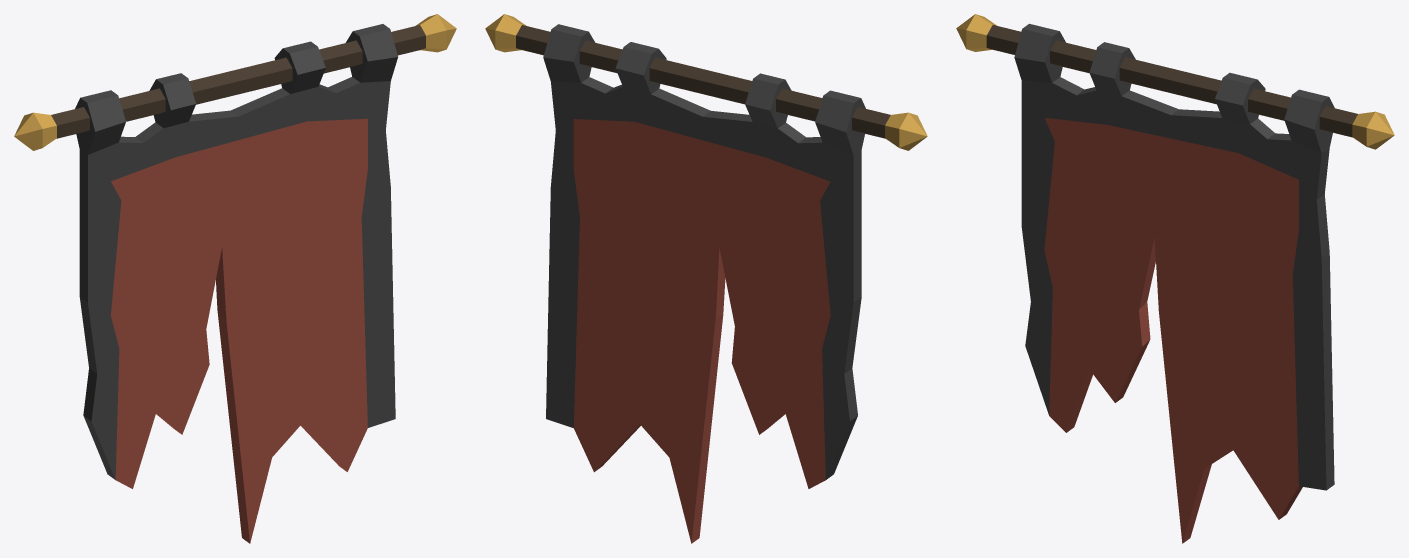
Rendered from SM_Prop_Wall_Banner_03.glb.
3 views of the same model, side by side, from view 1: azimuth 30°, elevation 25°; view 2: azimuth 150°, elevation 25°; view 3: azimuth 330°, elevation 25° (orthographic).
Parts seen in each view (by area): view 1: SM_Prop_Wall_Banner_03; view 2: SM_Prop_Wall_Banner_03; view 3: SM_Prop_Wall_Banner_03.
Boxes of the visible parts, x1,y1,x2,y2 form: SM_Prop_Wall_Banner_03: (14,14,456,543); SM_Prop_Wall_Banner_03: (485,14,927,543); SM_Prop_Wall_Banner_03: (956,14,1394,543).
Bounding box in the file's own units: 0.02 × 0.0207 × 0.00181.
1 material, 1 textured.
